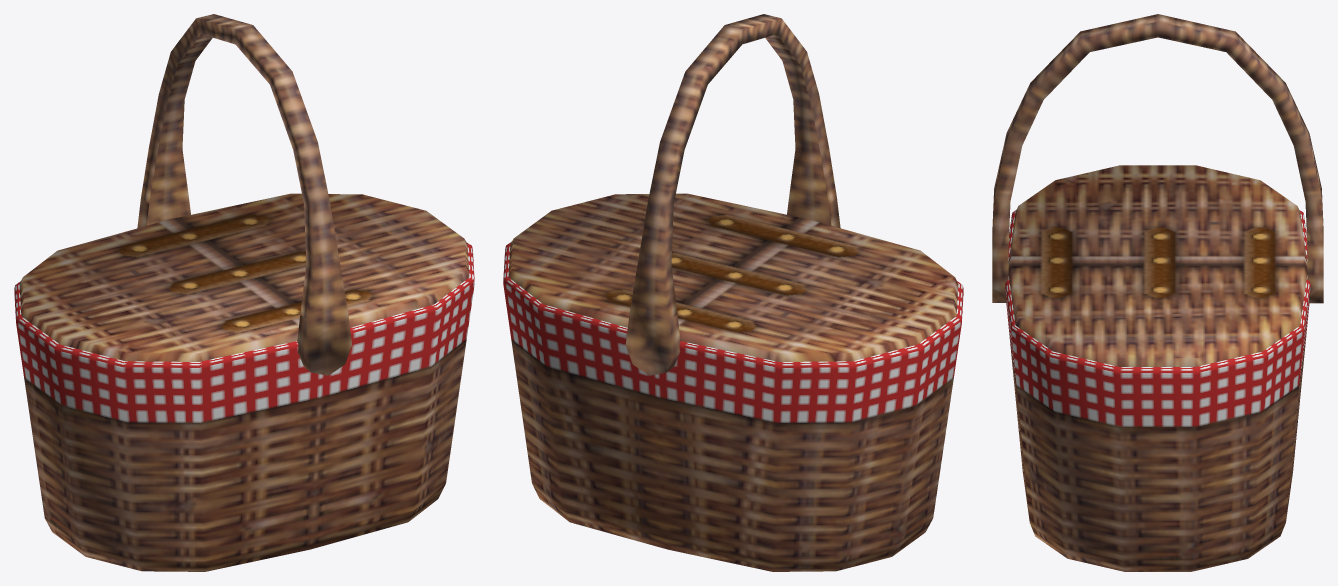
Rendered from PicnicBasket_Ground.fbx.
3 views of the same model, side by side, from view 1: azimuth 30°, elevation 25°; view 2: azimuth 150°, elevation 25°; view 3: azimuth 270°, elevation 25° (orthographic).
Visible parts, largest first — view 1: PicnicBasket_Ground; view 2: PicnicBasket_Ground; view 3: PicnicBasket_Ground.
Boxes of the visible parts, bbox=[...] form: PicnicBasket_Ground: bbox=[14, 14, 474, 571]; PicnicBasket_Ground: bbox=[503, 14, 963, 571]; PicnicBasket_Ground: bbox=[992, 14, 1323, 571].
Size of the model in its own units: 1.91 by 2.1 by 1.33.
